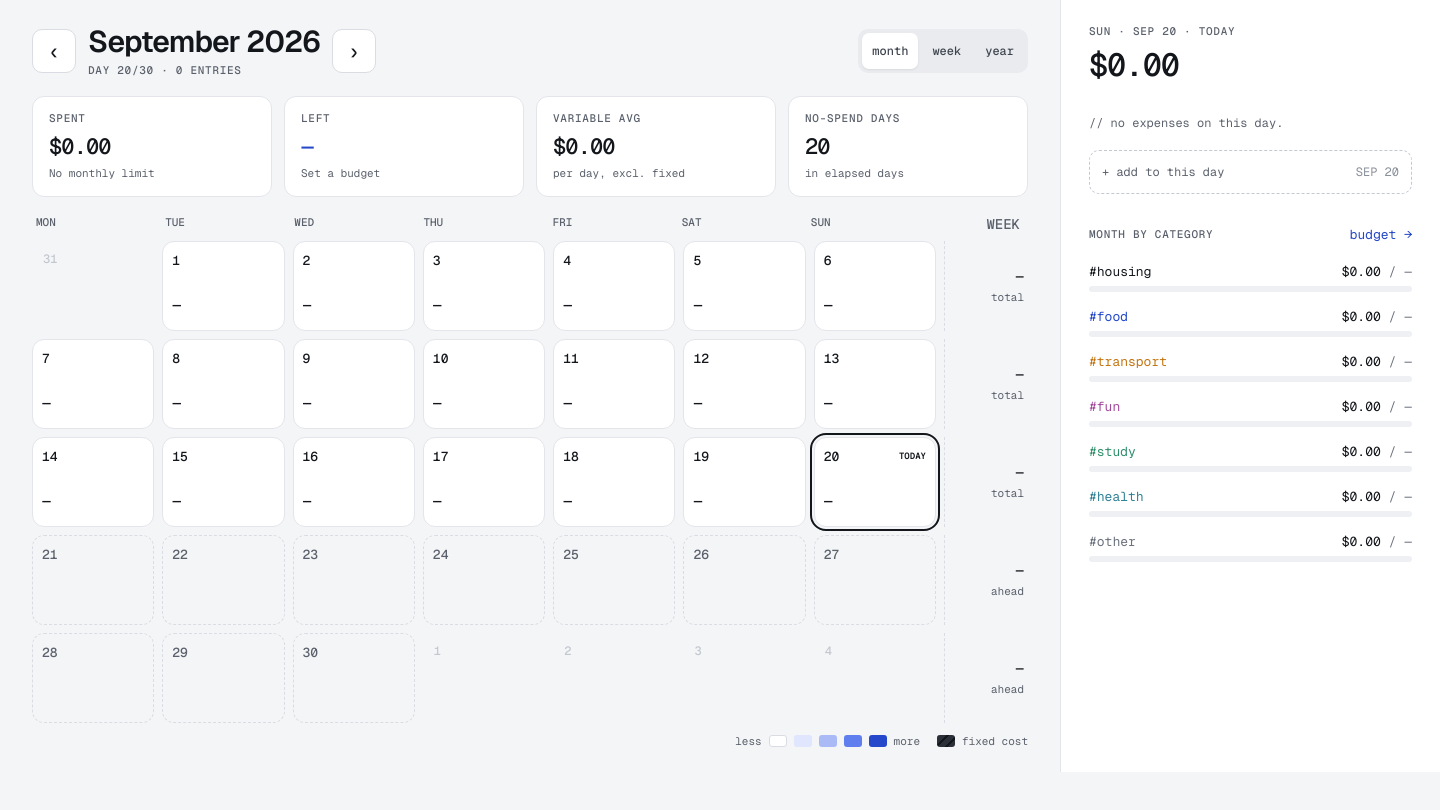
Test: switches to the selected week, then the year, and returns to month after choosing one
What coordinates should you click on to do the following:
click the button "week"
I would click on:
 (947, 51)
Its box is [922, 33, 971, 69].
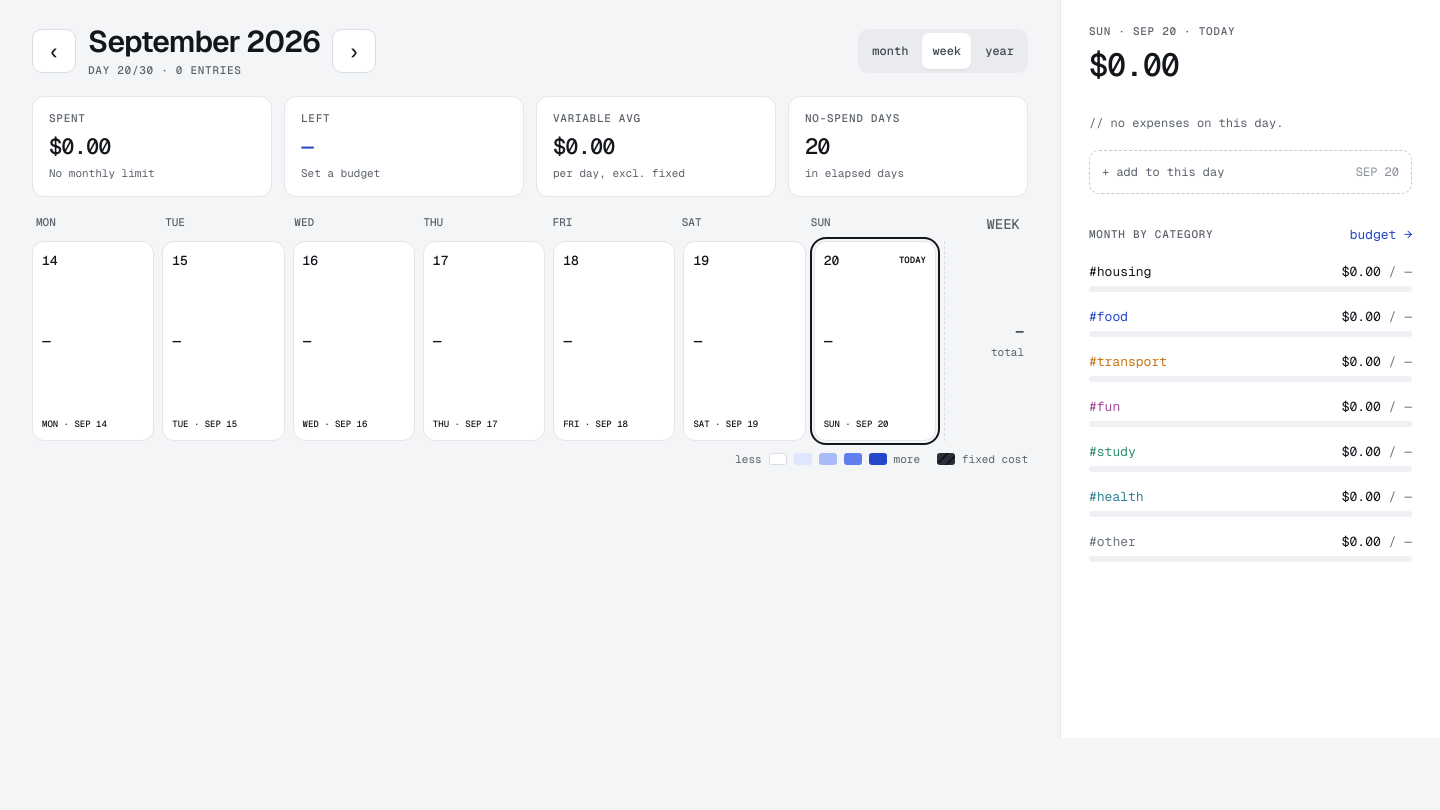
Expected: the number of buttons "14 — MON · SEP 14" is 7
Expected: the text "MON · SEP 14" is shown, [42, 418, 107, 430]
What coordinates should you click on to do the following:
click the button "year"
I would click on:
 (1000, 51)
Its box is [975, 33, 1024, 69].
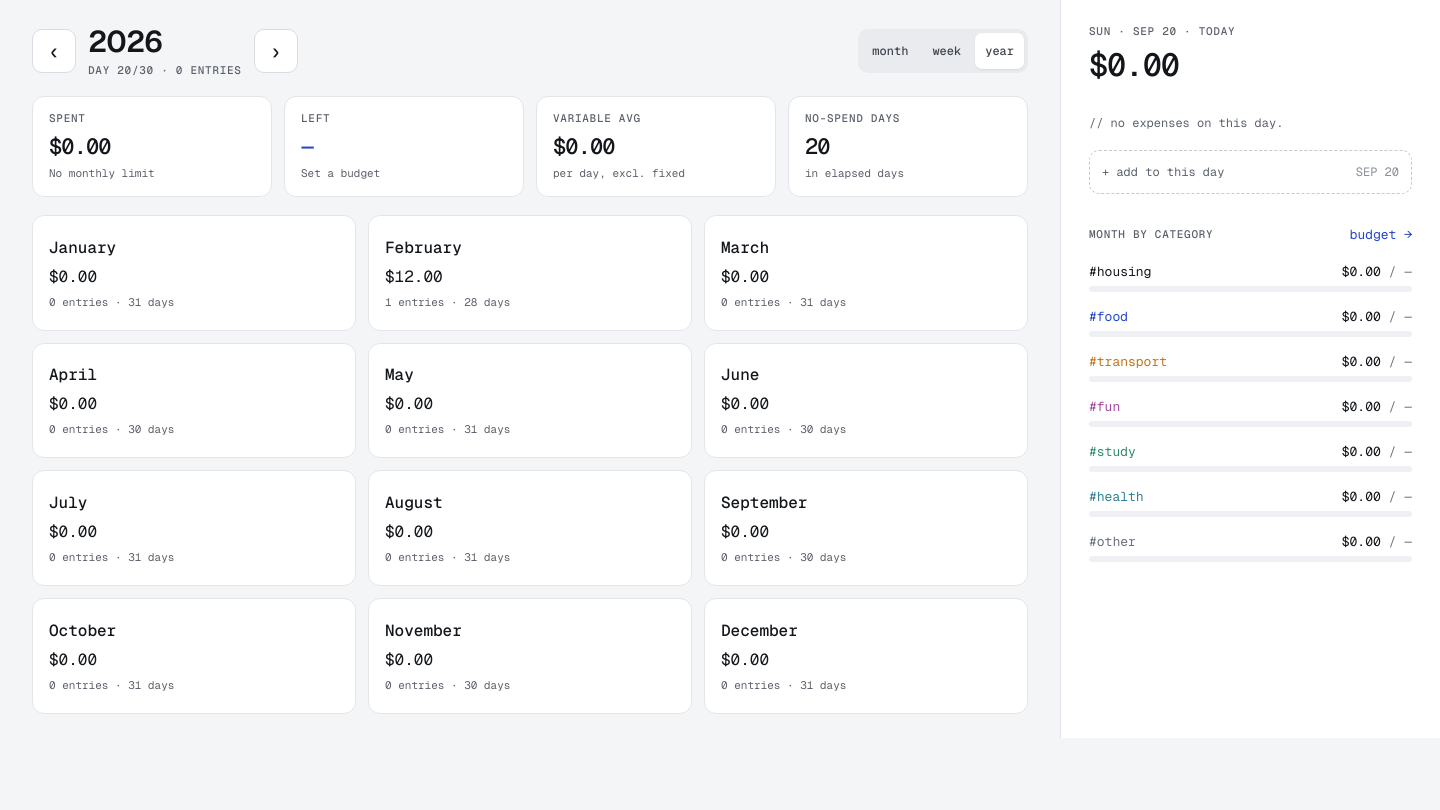
Expected: the button "February $12.00 1 entries · 28 days" is shown
What coordinates should you click on to do the following:
click the button "February $12.00 1 entries · 28 days"
I would click on:
 (423, 247)
Its box is [368, 215, 692, 330].
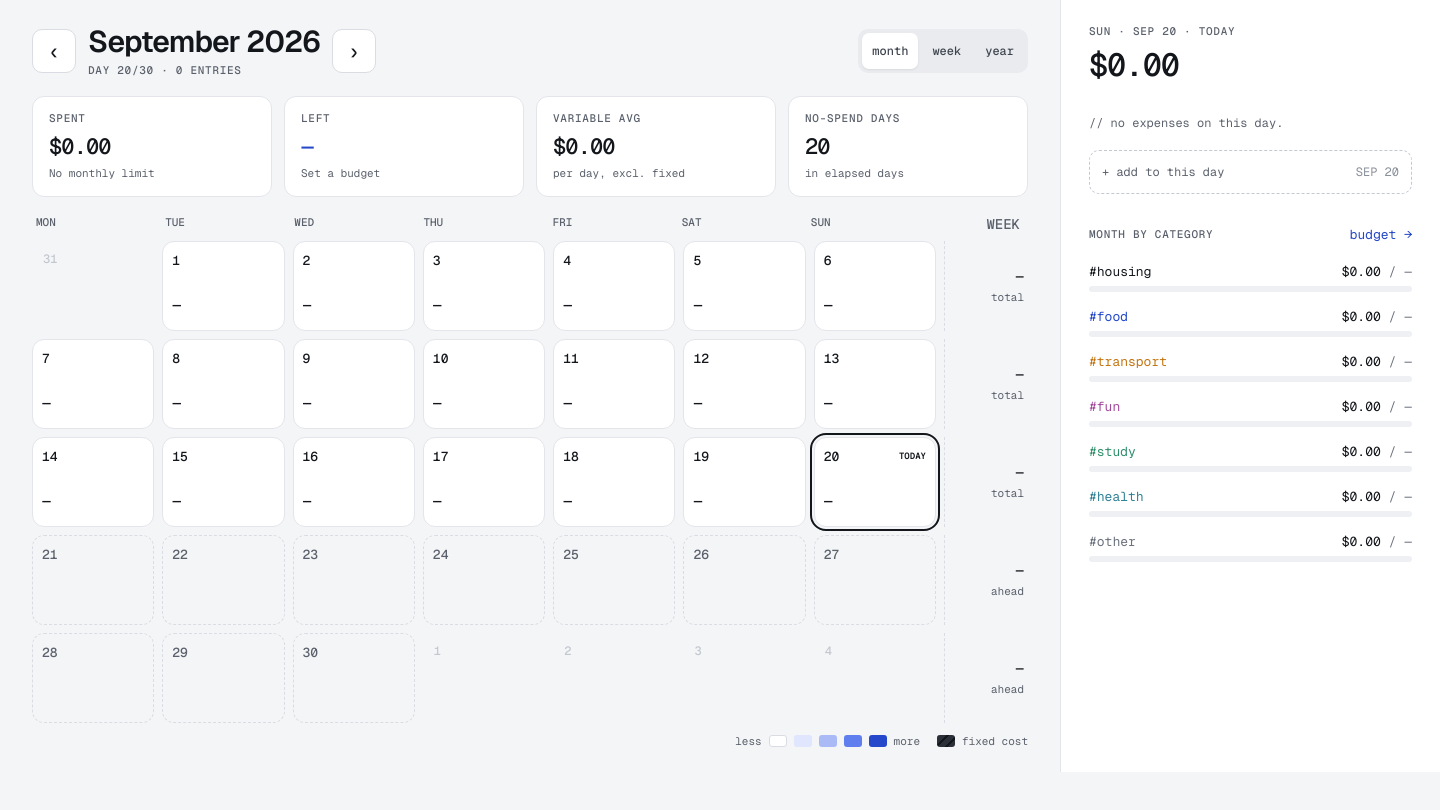
Expected: the number of buttons "1 —" is 30
